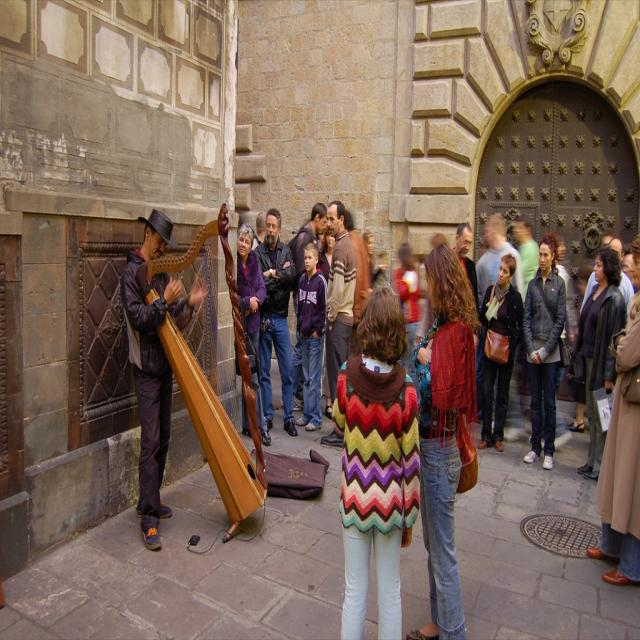harp: (136, 215, 269, 524)
